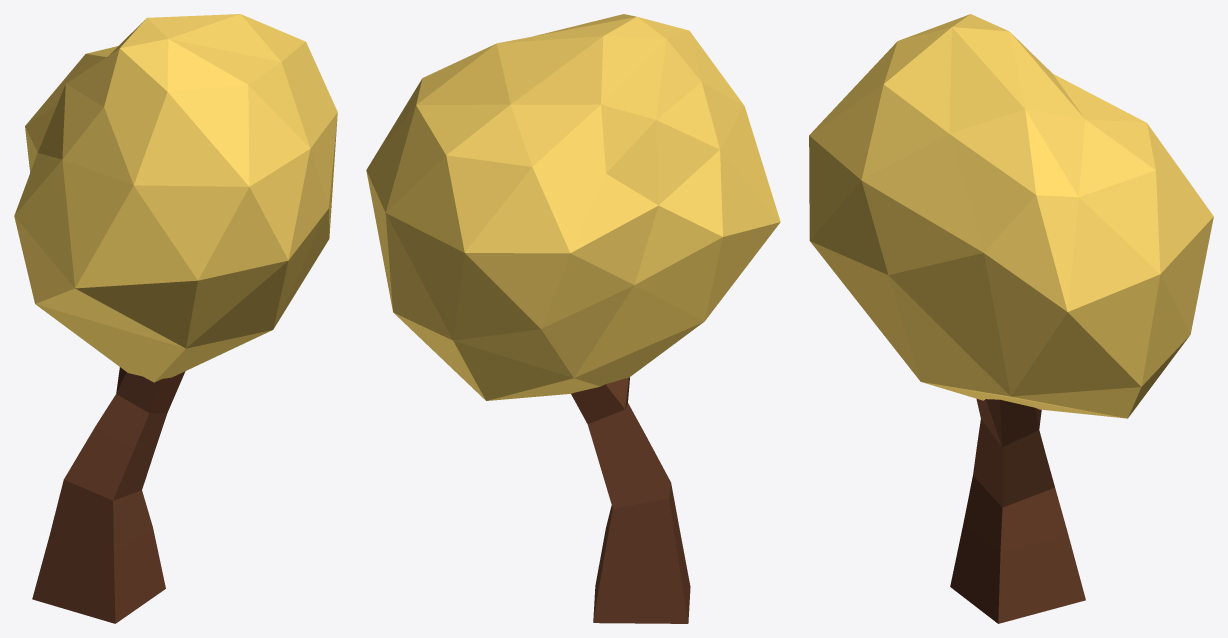
File: LemonTree1.fbx
The picture shows the model from 3 angles, left to right: view 1: azimuth 30°, elevation 25°; view 2: azimuth 150°, elevation 25°; view 3: azimuth 270°, elevation 25°; orthographic projection. The views are drawn at different scales.
Parts seen in each view (by area): view 1: LemonTree1; view 2: LemonTree1; view 3: LemonTree1.
Part boxes in pixels (x1,y1,x2,y2): LemonTree1: (14,14,337,623); LemonTree1: (366,14,780,623); LemonTree1: (809,14,1213,623).
Size of the model in its own units: 207 by 331 by 207.
